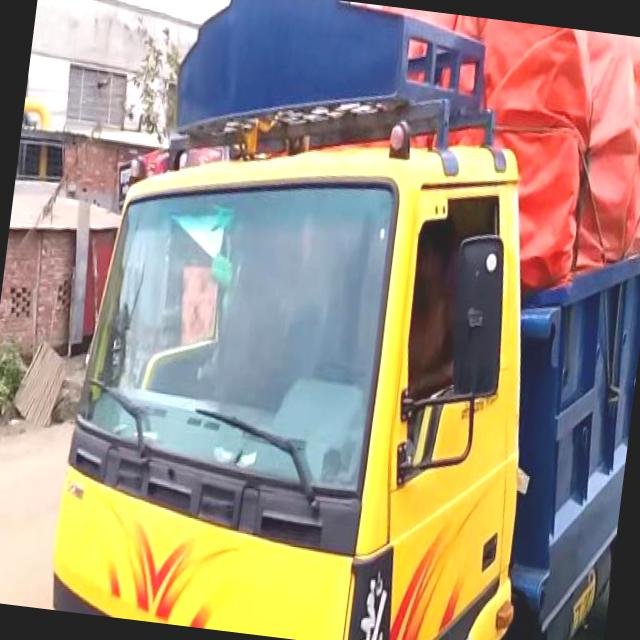truck: (45, 0, 640, 640)
